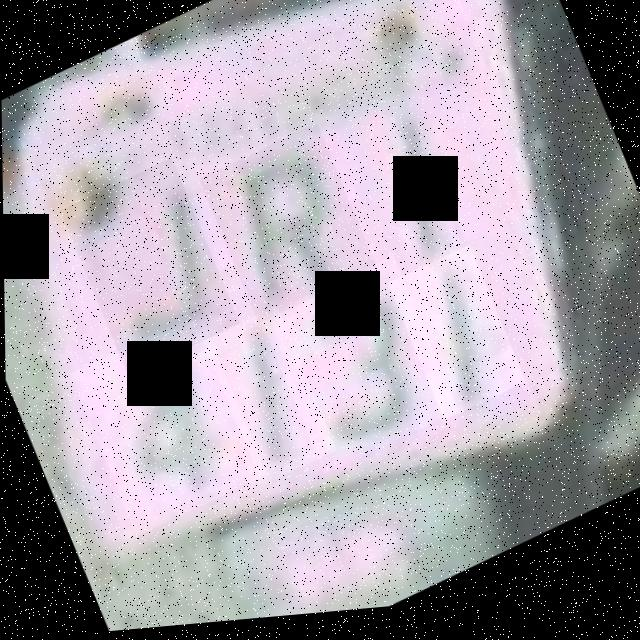1: (386, 249, 525, 433), (202, 307, 336, 494)
3: (258, 257, 458, 484)
4: (68, 311, 266, 543)
J: (60, 156, 240, 383)
R: (198, 124, 377, 332)
